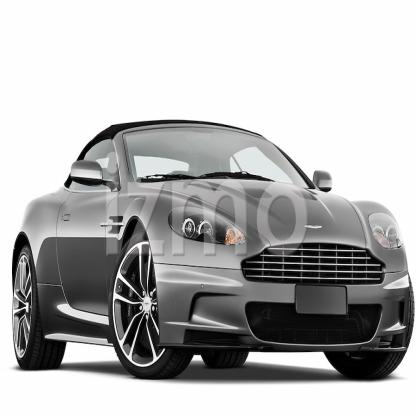Vehicle: (13, 121, 415, 382)
